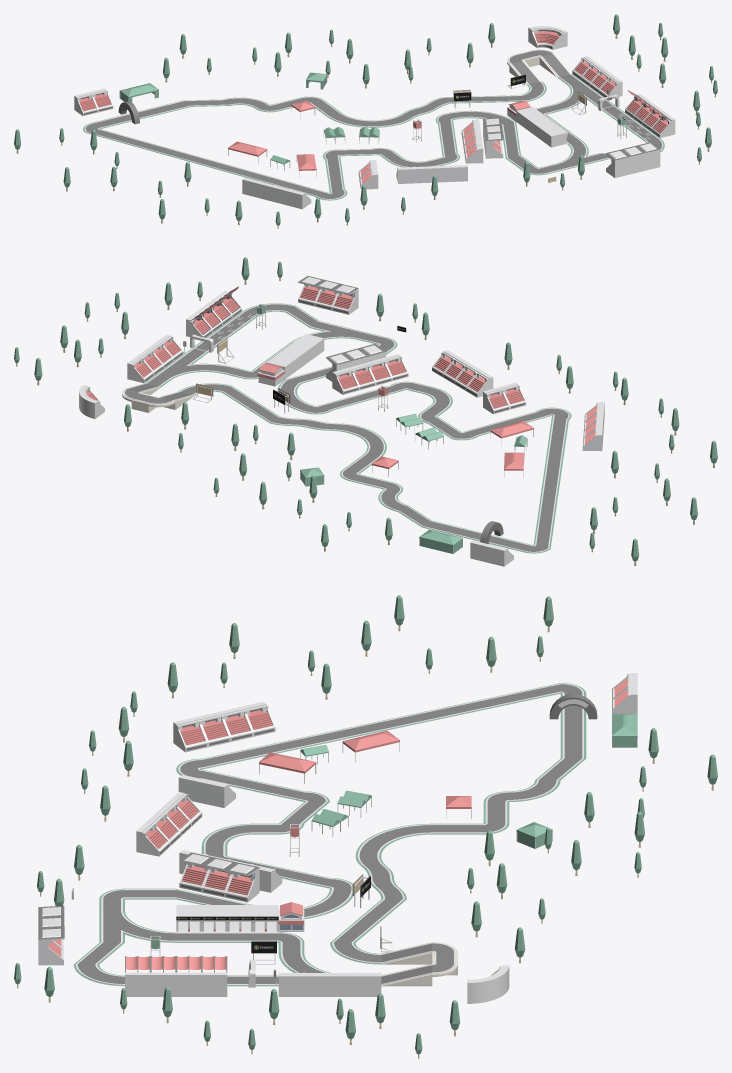
File: track.glb
The picture shows the model from 3 angles, top to bottom: view 1: azimuth 30°, elevation 25°; view 2: azimuth 150°, elevation 25°; view 3: azimuth 270°, elevation 25°; orthographic projection. The views are drawn at different scales.
Visible parts, largest first — view 1: grandStandRound(Clone), roadSplitLarger(Clone), roadSplitLarger(Clone).001, roadCornerLarger(Clone), grandStandCovered(Clone).001, roadCornerLarger(Clone).001, roadRampLongWall(Clone).001, grandStandAwning(Clone).003, grandStandCovered(Clone).006, grandStand(Clone).005, tentClosedLong(Clone), grandStandCovered(Clone).002 (+9 smaller); view 2: roadSplitLarger(Clone).001, tentClosedLong(Clone), roadSplitLarger(Clone), grandStandCovered(Clone).001, roadCornerLarger(Clone), grandStandRound(Clone), grandStand(Clone).016, grandStand(Clone).010, roadCornerLarger(Clone).001, grandStand(Clone), grandStandCovered(Clone).002, grandStandAwning(Clone) (+3 smaller); view 3: roadSplitLarger(Clone), grandStandRound(Clone), grandStandCovered(Clone).004, roadCornerLarger(Clone), grandStandAwning(Clone), grandStandAwning(Clone).001, grandStandAwning(Clone).003, grandStandAwning(Clone).002, grandStand(Clone).006, grandStandCovered(Clone).003, roadRampLongWall(Clone).001, grandStandCovered(Clone).006 (+14 smaller).
Part boxes in pixels (bbox=[...]): grandStandRound(Clone): bbox=[528, 26, 567, 49]; roadSplitLarger(Clone): bbox=[554, 140, 607, 170]; roadSplitLarger(Clone).001: bbox=[553, 80, 603, 110]; roadCornerLarger(Clone): bbox=[327, 113, 398, 127]; grandStandCovered(Clone).001: bbox=[606, 149, 629, 177]; roadCornerLarger(Clone).001: bbox=[444, 110, 515, 124]; roadRampLongWall(Clone).001: bbox=[539, 53, 571, 77]; grandStandAwning(Clone).003: bbox=[651, 109, 675, 137]; grandStandCovered(Clone).006: bbox=[485, 132, 503, 158]; grandStand(Clone).005: bbox=[74, 92, 97, 116]; tentClosedLong(Clone): bbox=[119, 83, 158, 102]; grandStandCovered(Clone).002: bbox=[621, 146, 645, 174]; roadSplitLarger(Clone).001: bbox=[154, 354, 233, 380]; tentClosedLong(Clone): bbox=[419, 529, 462, 554]; roadSplitLarger(Clone): bbox=[290, 321, 370, 342]; grandStandCovered(Clone).001: bbox=[332, 284, 358, 314]; roadCornerLarger(Clone): bbox=[348, 426, 386, 458]; grandStandRound(Clone): bbox=[79, 385, 104, 418]; grandStand(Clone).016: bbox=[332, 367, 359, 394]; grandStand(Clone).010: bbox=[483, 387, 509, 414]; roadCornerLarger(Clone).001: bbox=[277, 379, 315, 413]; grandStand(Clone): bbox=[127, 356, 153, 383]; grandStandCovered(Clone).002: bbox=[315, 280, 341, 310]; grandStandAwning(Clone): bbox=[186, 308, 212, 337]; roadSplitLarger(Clone): bbox=[99, 910, 176, 942]; grandStandRound(Clone): bbox=[467, 965, 509, 1003]; grandStandCovered(Clone).004: bbox=[225, 862, 259, 902]; roadCornerLarger(Clone): bbox=[355, 823, 432, 856]; grandStandAwning(Clone): bbox=[201, 956, 227, 996]; grandStandAwning(Clone).001: bbox=[176, 956, 201, 996]; grandStandAwning(Clone).003: bbox=[125, 956, 150, 996]; grandStandAwning(Clone).002: bbox=[150, 956, 176, 996]; grandStand(Clone).006: bbox=[173, 717, 207, 752]; grandStandCovered(Clone).003: bbox=[38, 927, 64, 965]; roadRampLongWall(Clone).001: bbox=[381, 964, 432, 986]; grandStandCovered(Clone).006: bbox=[179, 852, 213, 892].
Bounding box in the file's own units: 39.79 × 1.54 × 27.47.
Materials: 116 (5 with a texture image).
